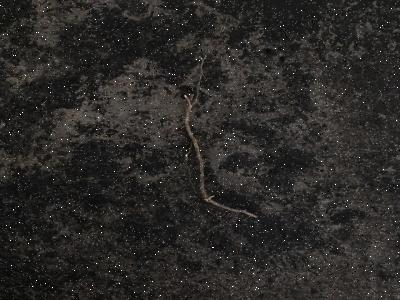Root: (183, 56, 257, 217)
